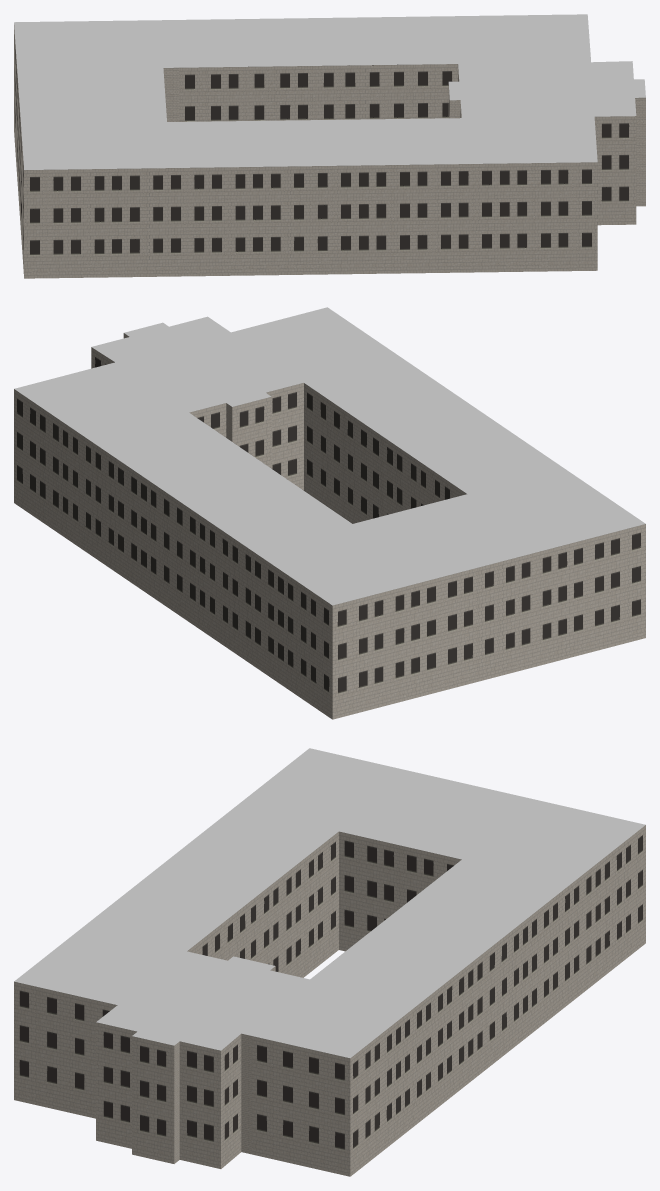
The model's file is building-0-0-496.dae.
The picture shows the model from 3 angles, top to bottom: view 1: azimuth 30°, elevation 25°; view 2: azimuth 150°, elevation 25°; view 3: azimuth 270°, elevation 25°; orthographic projection. The views are drawn at different scales.
Visible parts, largest first — view 1: geopipeinodeOUjJSdzB (×3); view 2: geopipeinodeOUjJSdzB (×3); view 3: geopipeinodeOUjJSdzB (×3).
Part boxes in pixels (left/top/right/bottom): geopipeinodeOUjJSdzB (×3): left=14, top=14, right=645, bottom=278; geopipeinodeOUjJSdzB (×3): left=14, top=307, right=645, bottom=719; geopipeinodeOUjJSdzB (×3): left=14, top=748, right=645, bottom=1176.
Bounding box in the file's own units: 117 × 101 × 20.81.
